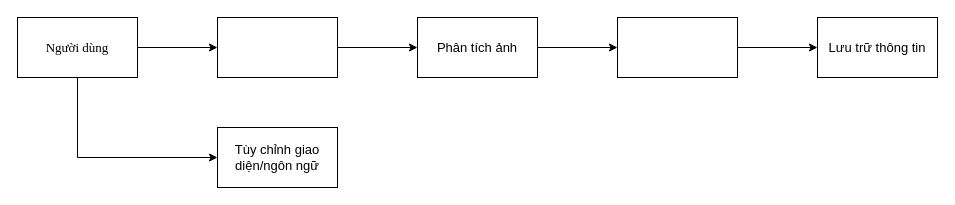
The diagram is 955 pixels wide and 205 high, and some of its shapes have lost their labels. The centre of each missing label's shape, as x and y in pixels:
"Tra cứu thông tin" belongs at (677,47).
"Xử lý ảnh cơ bản" belongs at (277,47).
